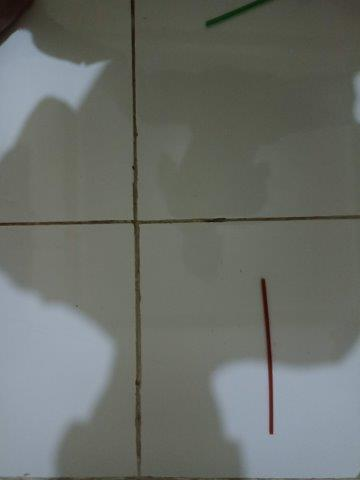sedotan: (261, 278, 273, 435)
